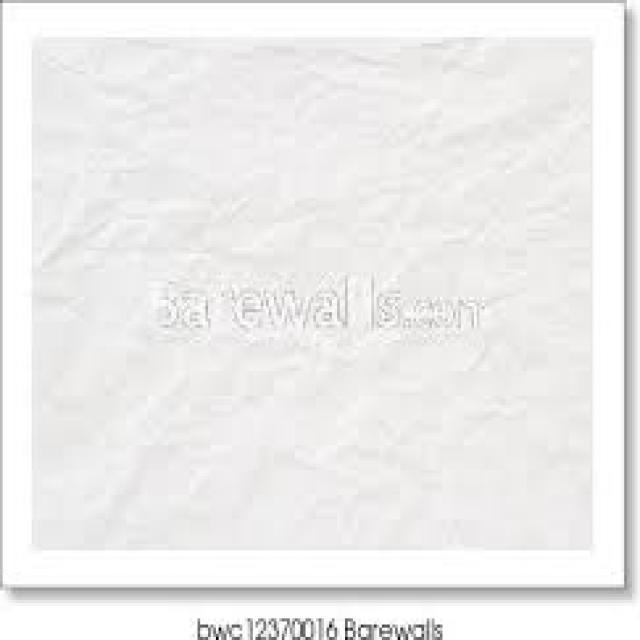paper: (29, 31, 593, 553)
